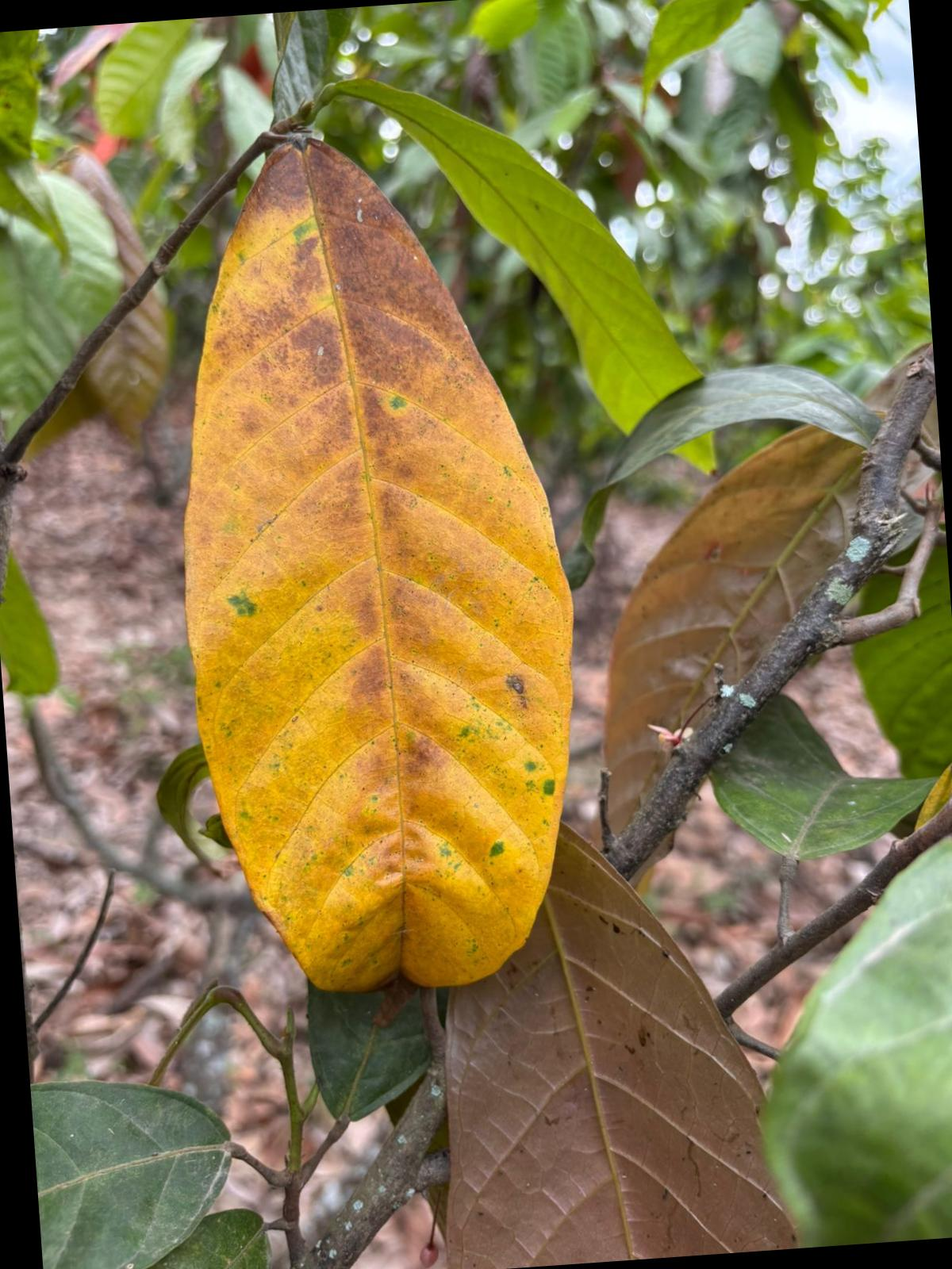Fosforo: (184, 135, 571, 990)
